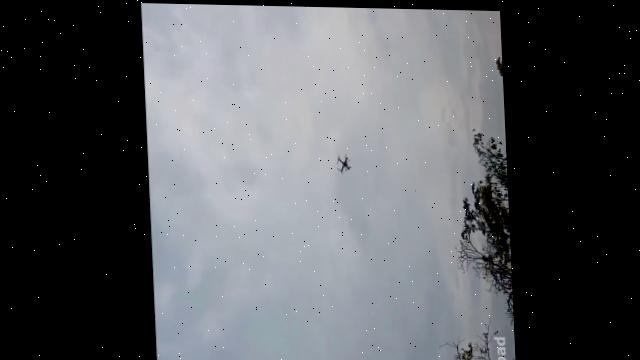drone: (332, 152, 351, 176)
